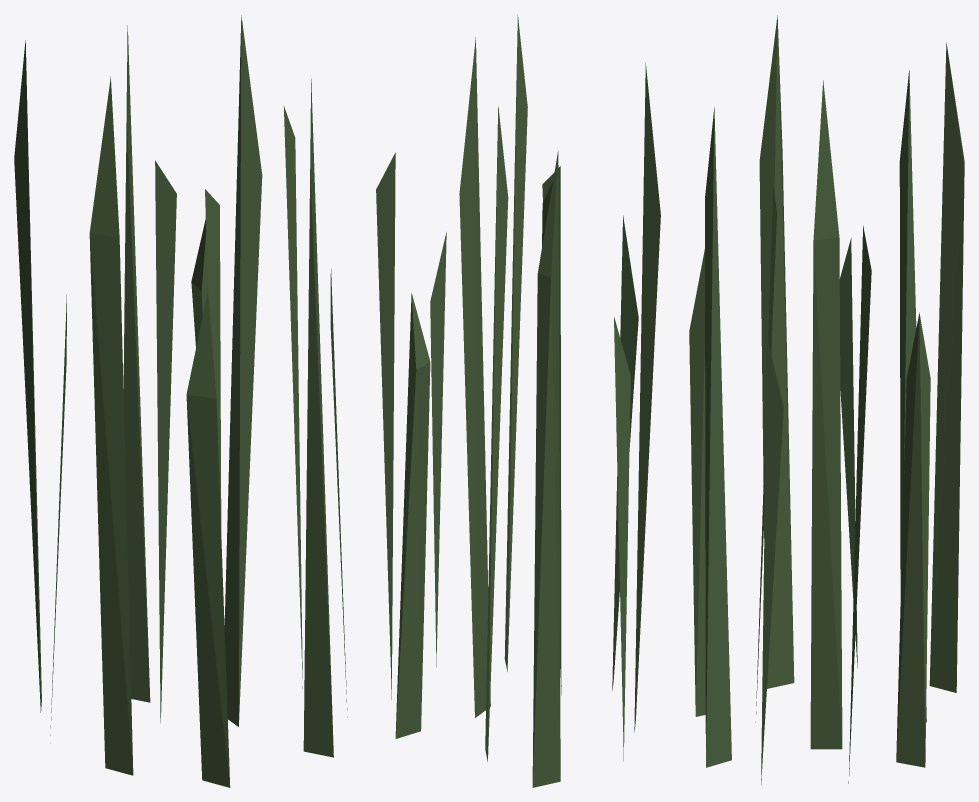
Rendered from Grass.lod3.glb.
3 renders of one model, left to right at view 1: azimuth 30°, elevation 25°; view 2: azimuth 150°, elevation 25°; view 3: azimuth 270°, elevation 25°, orthographic. The views are drawn at different scales.
Parts seen in each view (by area): view 1: Grass; view 2: Grass; view 3: Grass.
Part boxes in pixels (x1,y1,x2,y2): Grass: (14, 15, 347, 787); Grass: (376, 14, 660, 787); Grass: (689, 15, 964, 785).
Size of the model in its own units: 0.3309 by 0.8838 by 0.3272.
